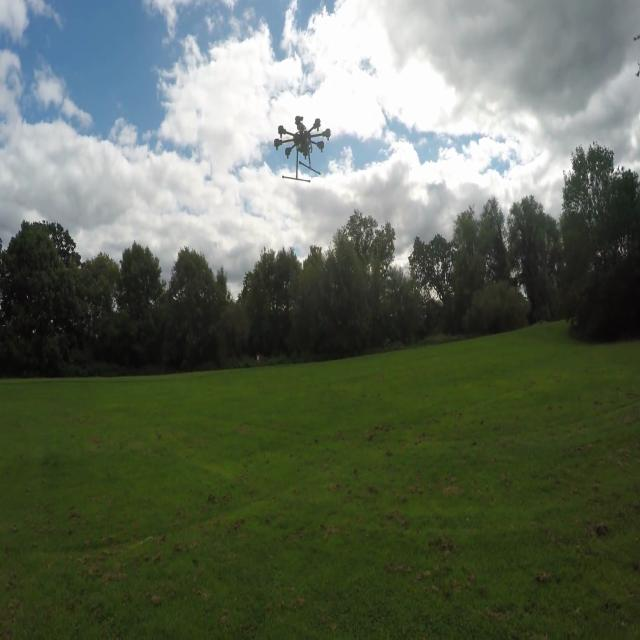drone: (268, 84, 338, 196)
